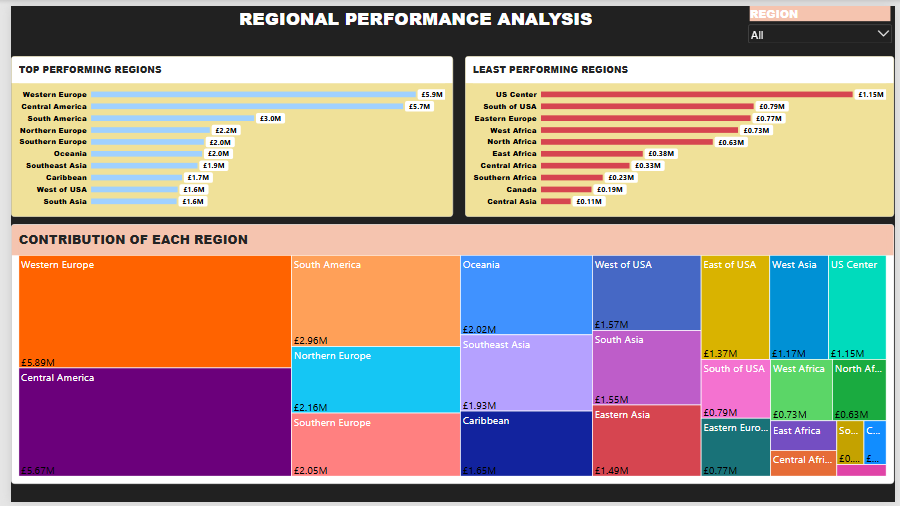

The dashboard page shown, as its layout file describes it:
{"tool":"powerbi","page":{"name":"Regional Performance","canvas":[1920,1080],"ordinal":1},"visuals":[{"type":"textbox","box":[495.7,0,784.8,80.4],"z":0},{"type":"barChart","title":"TOP PERFORMING REGIONS","fields":{"Category":["Table1.Order Region"],"Y":["Table1.Total Sales"]},"box":[0,108.7,960.9,350],"z":1000},{"type":"barChart","title":"LEAST PERFORMING REGIONS","fields":{"Category":["Table1.Order Region"],"Y":["Table1.Total Sales"]},"box":[987,108.7,932.6,350],"z":2000},{"type":"treemap","title":"CONTRIBUTION OF EACH REGION","fields":{"Group":["Table1.Order Region"],"Values":["Table1.Total Sales"]},"box":[0,473.9,1919.6,565.2],"z":3000},{"type":"slicer","fields":{"Values":["Table1.Order Region"]},"box":[1597.8,0,321.7,80.4],"z":4000}]}

Visuals, with their boxes in screenshot pixels (x1, y1, x2, y2), scaled from the page's 1920x1080 canvas onto the 900x506 screenshot:
textbox: [232, 0, 600, 38]
"TOP PERFORMING REGIONS" barChart: [0, 51, 450, 215]
"LEAST PERFORMING REGIONS" barChart: [463, 51, 899, 215]
"CONTRIBUTION OF EACH REGION" treemap: [0, 222, 899, 487]
slicer - Table1.Order Region: [749, 0, 899, 38]
